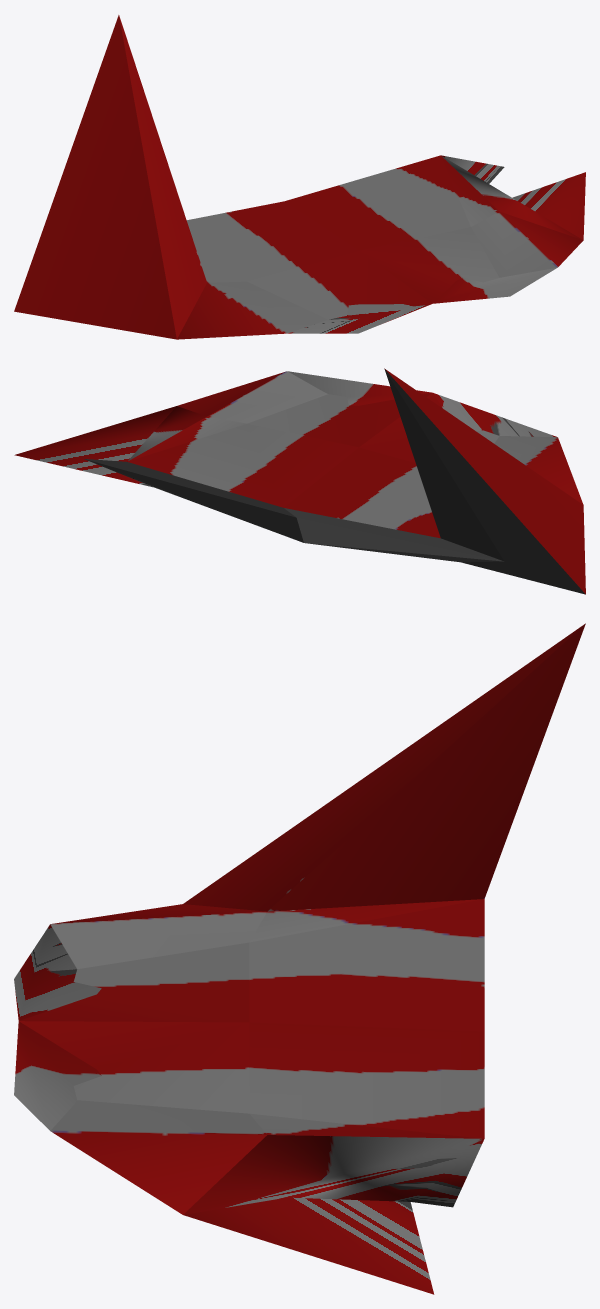
File: enemyFighterBreak01.obj
The picture shows the model from 3 angles, top to bottom: view 1: azimuth 30°, elevation 25°; view 2: azimuth 150°, elevation 25°; view 3: azimuth 270°, elevation 25°; orthographic projection. The views are drawn at different scales.
Parts seen in each view (by area): view 1: Cube.003; view 2: Cube.003; view 3: Cube.003.
Part boxes in pixels (box(x1,y1,x2,y2)): Cube.003: box(14, 15, 585, 339); Cube.003: box(14, 368, 585, 594); Cube.003: box(14, 623, 585, 1294).
Bounding box in the file's own units: 2.68 × 1.1 × 1.48.
Materials: 1 (1 with a texture image).
